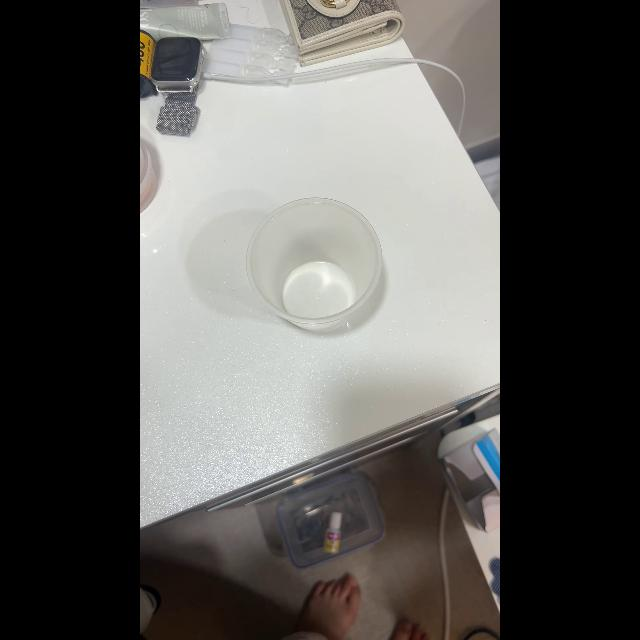clean: (244, 196, 384, 332)
